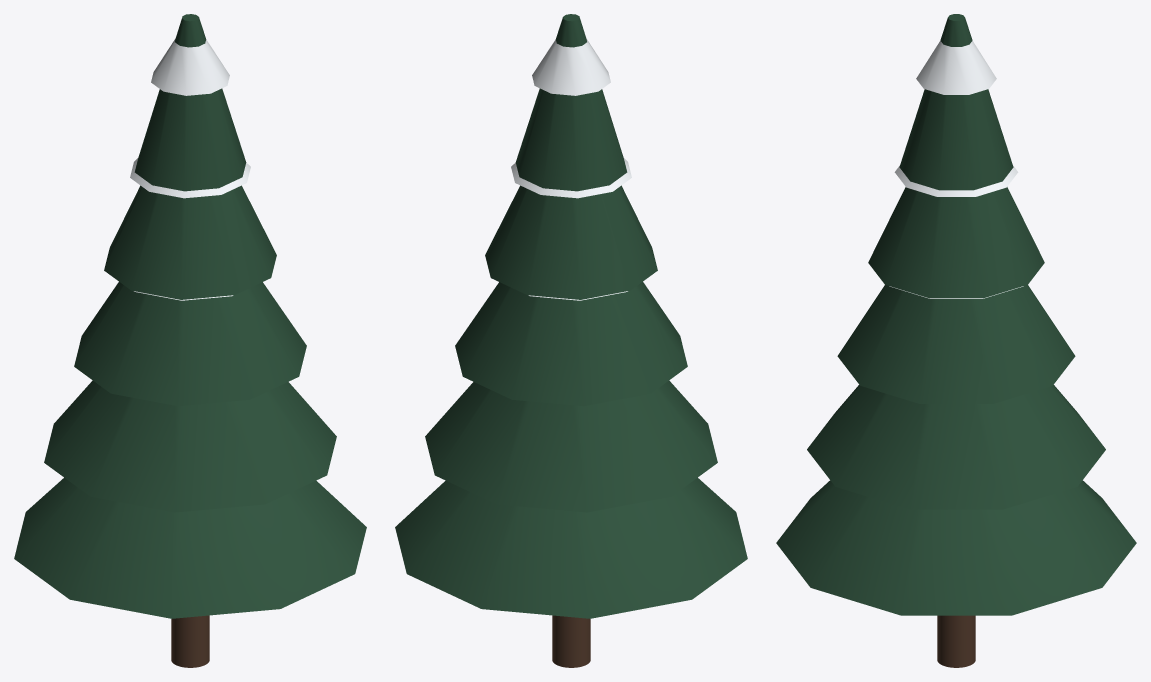
Rendered from pine.glb.
3 renders of one model, left to right at view 1: azimuth 30°, elevation 25°; view 2: azimuth 150°, elevation 25°; view 3: azimuth 270°, elevation 25°, orthographic.
Visible parts, largest first — view 1: needles, snowcaps, Cylinder; view 2: needles, snowcaps, Cylinder; view 3: needles, snowcaps, Cylinder.
Boxes of the visible parts, <box> form: needles: <box>14,14,366,618</box>; snowcaps: <box>130,38,250,300</box>; Cylinder: <box>171,615,209,667</box>; needles: <box>395,14,747,618</box>; snowcaps: <box>511,38,631,300</box>; Cylinder: <box>552,615,590,667</box>; needles: <box>776,14,1136,615</box>; snowcaps: <box>889,41,1023,298</box>; Cylinder: <box>937,615,975,667</box>.
Size of the model in its own units: 3.2 by 6.6 by 3.36.
